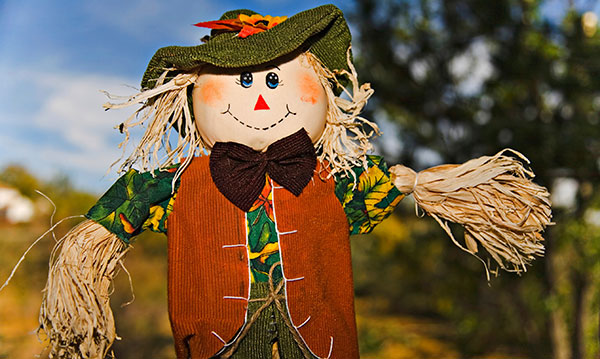person-like: (39, 6, 552, 359)
